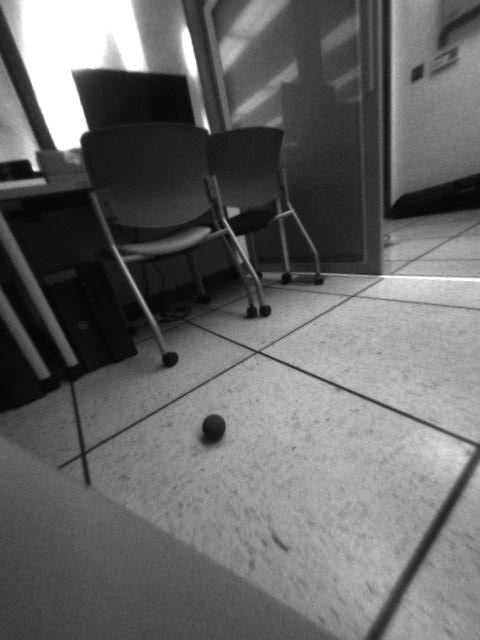dogtoy: (192, 406, 234, 450)
